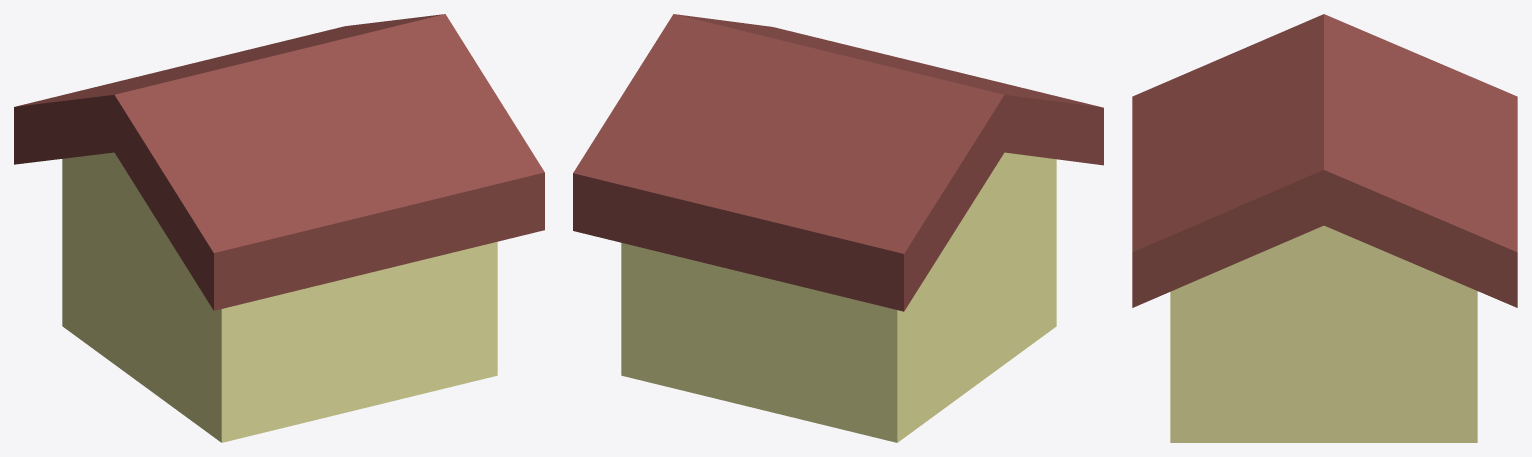
The model's file is house3.glb.
3 views of the same model, side by side, from view 1: azimuth 30°, elevation 25°; view 2: azimuth 150°, elevation 25°; view 3: azimuth 270°, elevation 25° (orthographic). The views are drawn at different scales.
Visible parts, largest first — view 1: Body.002, Cube.002; view 2: Body.002, Cube.002; view 3: Body.002, Cube.002.
Part boxes in pixels (x1,y1,x2,y2): Body.002: [14, 14, 544, 310]; Cube.002: [62, 152, 497, 442]; Body.002: [573, 14, 1103, 311]; Cube.002: [621, 152, 1056, 442]; Body.002: [1132, 14, 1517, 307]; Cube.002: [1170, 225, 1477, 442].
Bounding box in the file's own units: 2.4 × 2.05 × 2.51.
